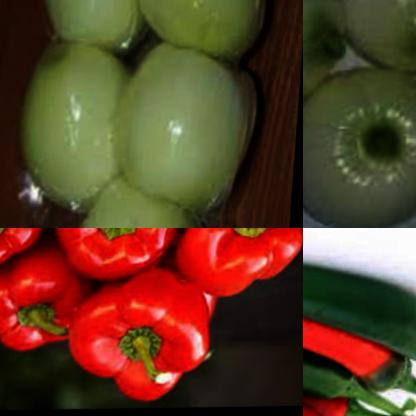bell pepper: (66, 277, 223, 409), (0, 228, 97, 355), (178, 228, 303, 296), (48, 228, 188, 287)
hot pepper: (303, 253, 416, 366), (303, 301, 416, 392), (303, 337, 375, 416)
onion: (1, 0, 274, 228), (303, 53, 416, 228), (331, 0, 416, 75), (303, 0, 357, 114)
